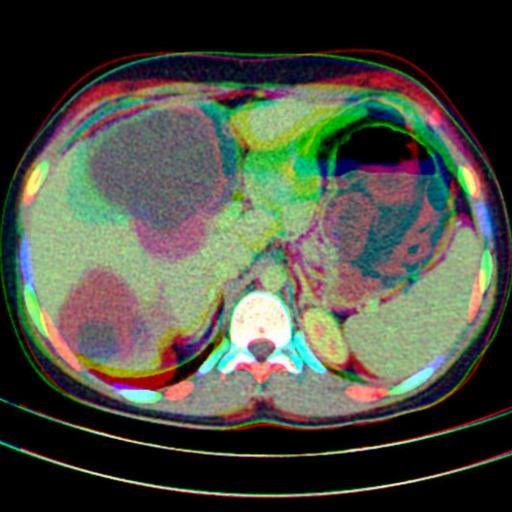Cyst: (91, 112, 230, 256), (58, 269, 151, 366)
